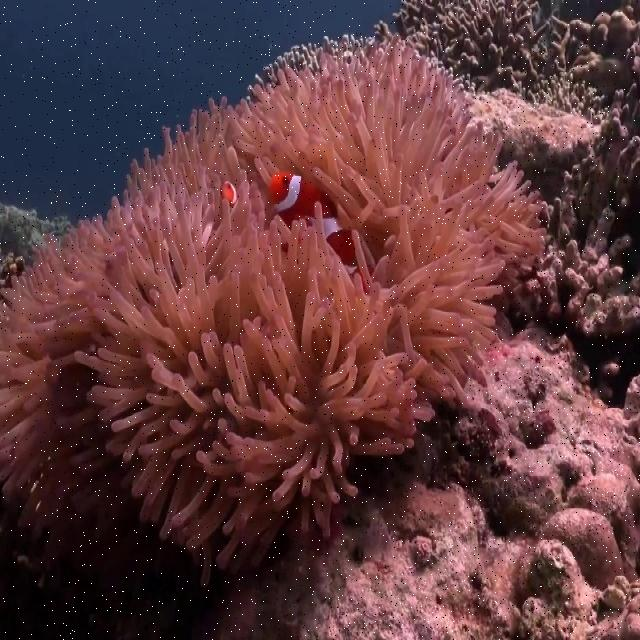fish: (267, 170, 361, 279), (221, 181, 238, 206)
reefs: (0, 35, 547, 585), (372, 1, 639, 336)
